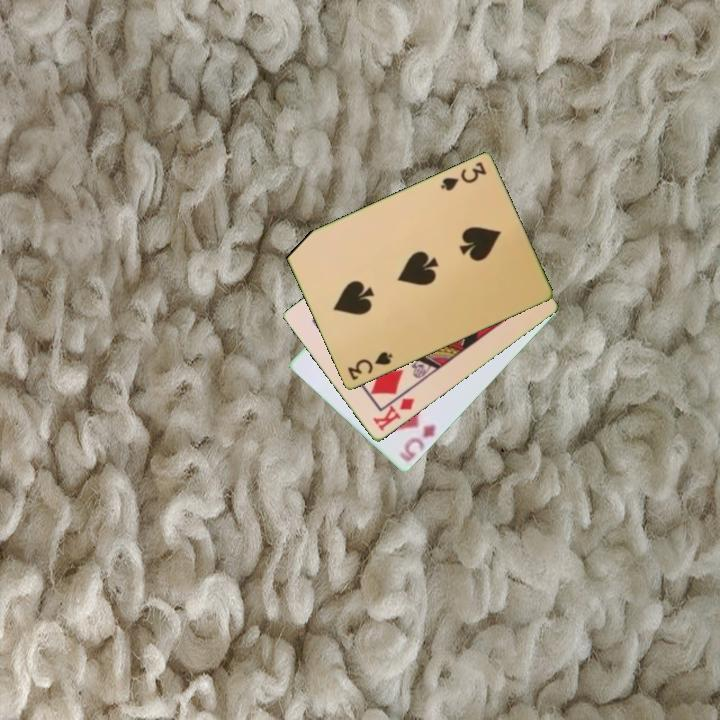3s: (344, 348, 396, 383), (437, 159, 489, 194)
5d: (395, 420, 439, 466)
Kd: (369, 395, 417, 435)
